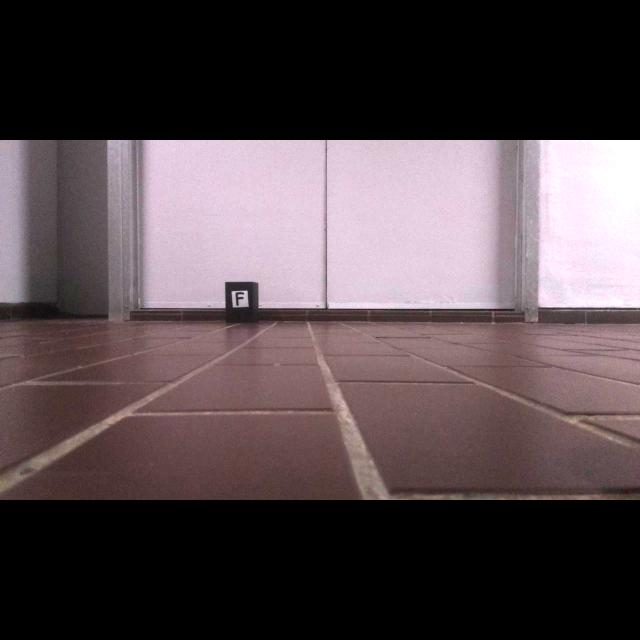F: (236, 292, 244, 306)
